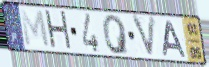4: (81, 12, 101, 54)
A: (162, 20, 188, 60)
H: (43, 9, 74, 53)
M: (19, 8, 52, 50)
Q: (101, 14, 131, 56)
V: (130, 14, 158, 61)
